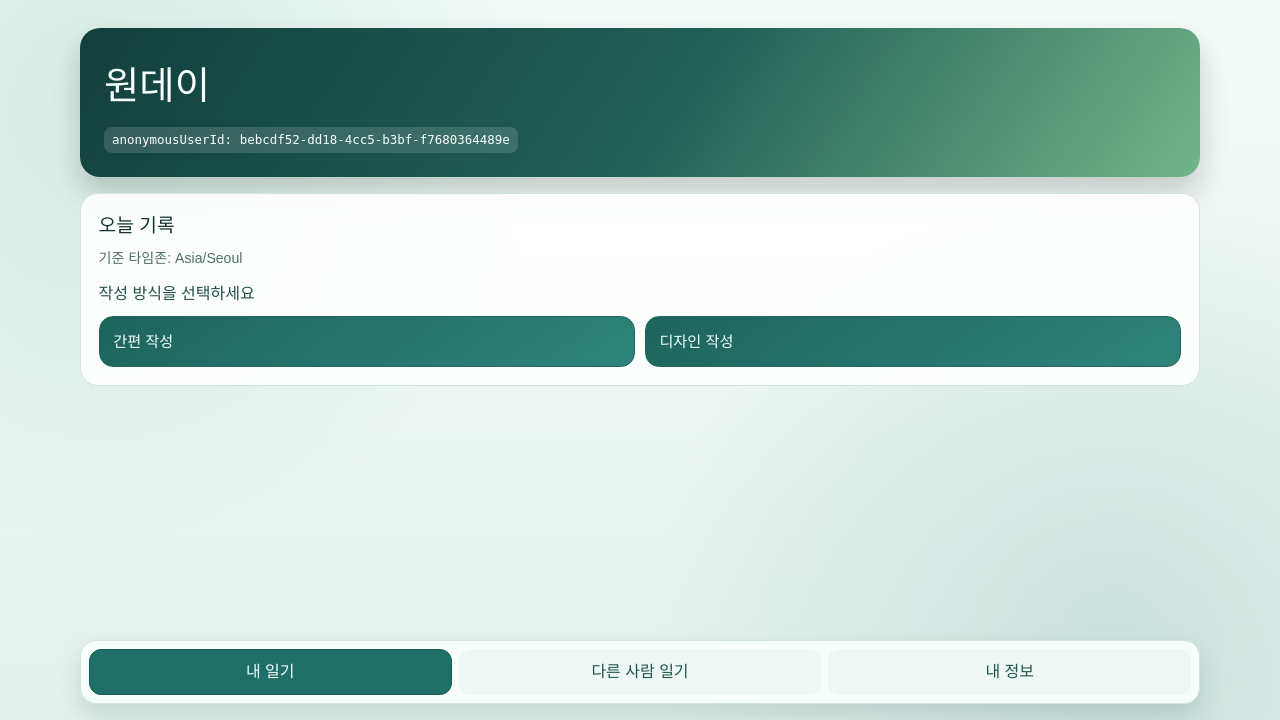
Scenario: App integration › shows three paper templates with a full-range color picker
What coordinates should you click on to do the following:
click the button "디자인 작성"
I would click on:
 (696, 341)
Its box is [645,316,1181,367].
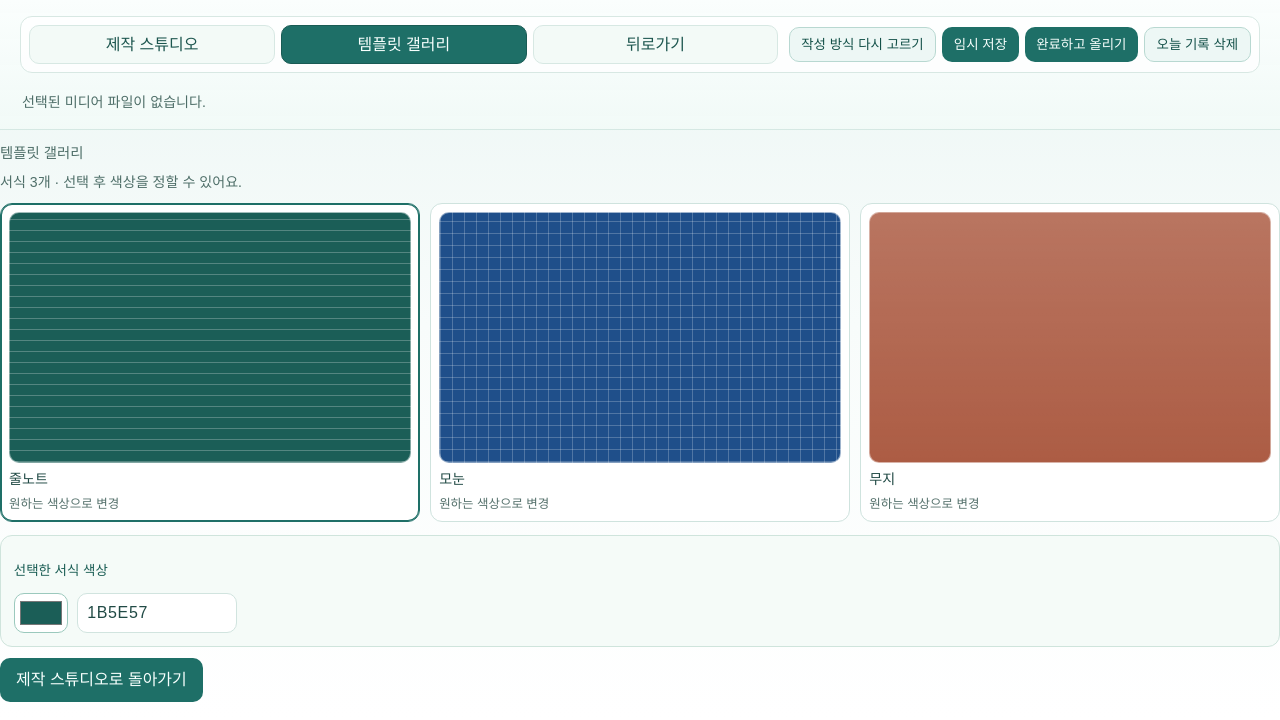
Expected: the text "서식 3개 · 선택 후 색상을 정할 수 있어요." is shown, [0,174,242,190]
Expected: the number of buttons "줄노트 원하는 색상으로 변경" is 3, [0,203,420,522]; [430,203,850,522]; [860,203,1279,522]
Expected: the colour field named "배경 색상" is shown, [14,593,68,633]
